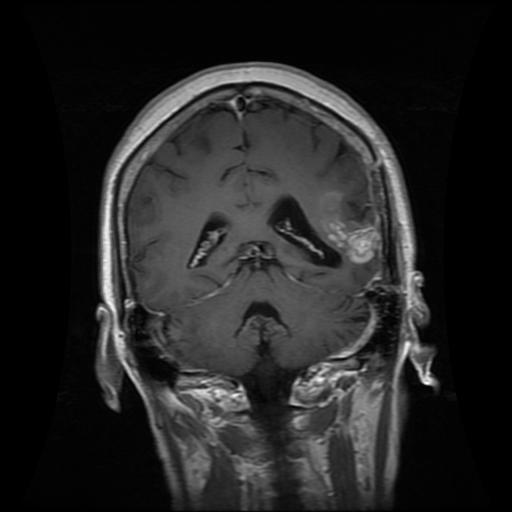Gliomia_tumour: (313, 190, 382, 263)
